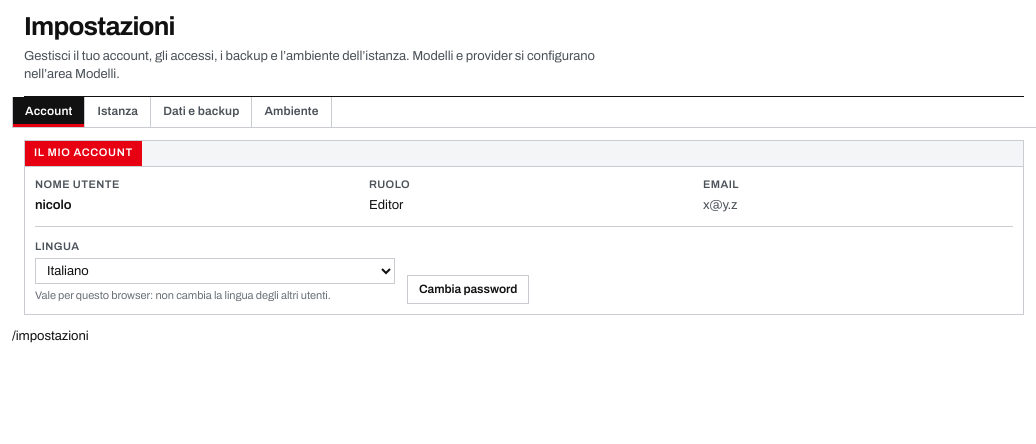
Scenario: SettingsPage › a chi non è admin i comandi mancano, ma il motivo è scritto
Click the button "Istanza".
click(118, 112)  # box [85, 97, 151, 127]
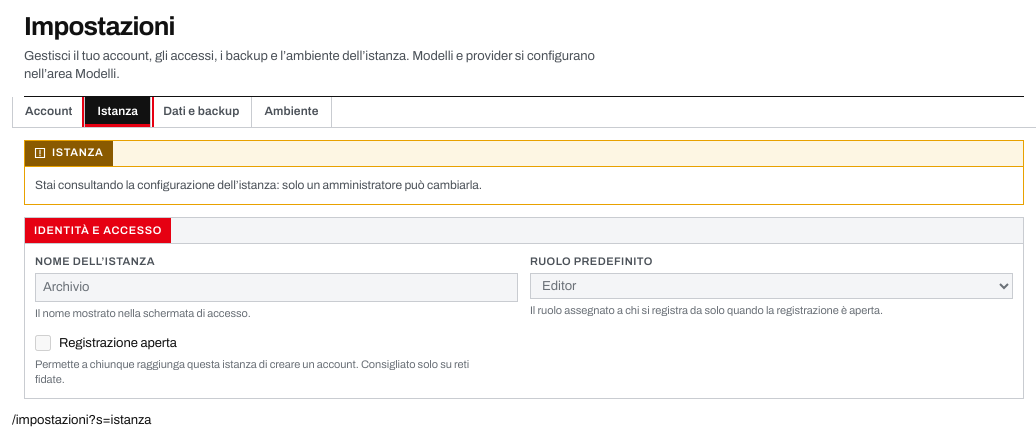
Now the text "solo un amministratore può cambiarla" is shown, box [35, 178, 482, 192]
Now the field showing "Archivio" is disabled, box [35, 273, 518, 302]
